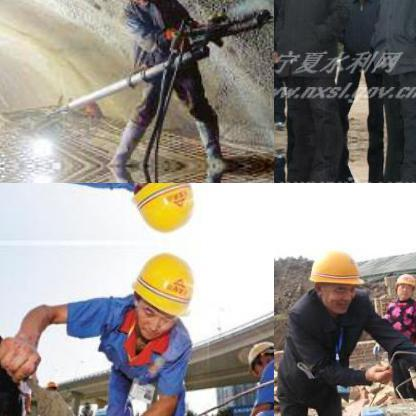Helmet: (122, 242, 200, 340), (122, 183, 201, 241), (304, 242, 364, 310), (244, 335, 273, 374), (392, 270, 415, 299), (42, 376, 58, 390)
